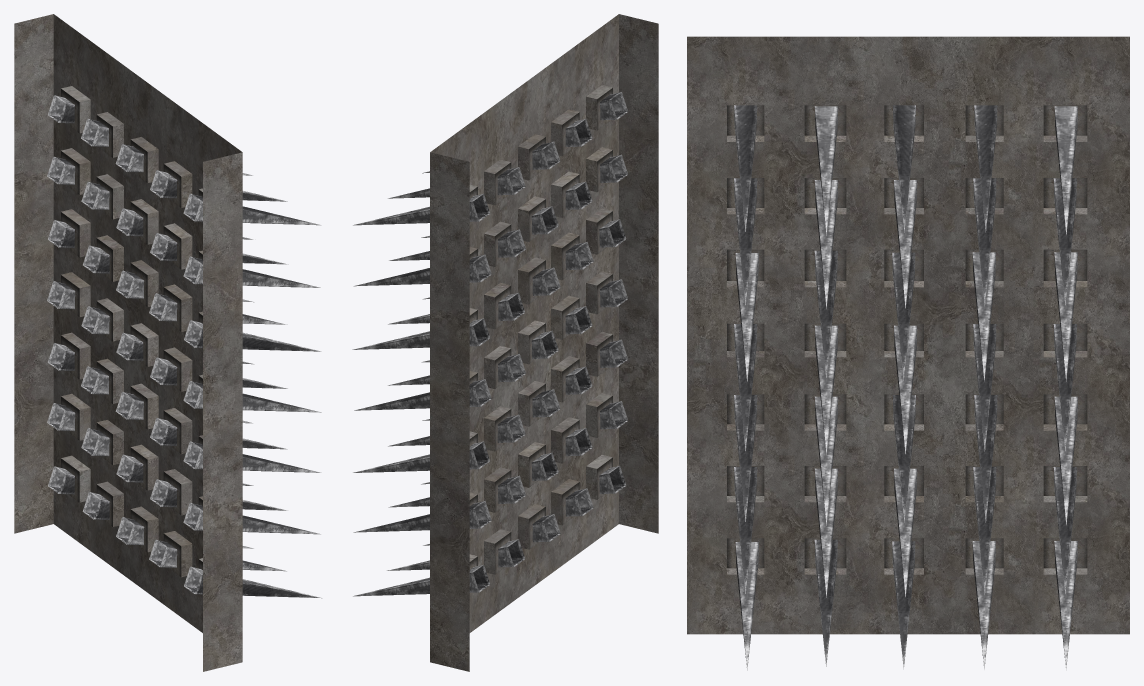
The model's file is ExportLibrarySpikedWall.FBX.
3 views of the same model, side by side, from view 1: azimuth 30°, elevation 25°; view 2: azimuth 150°, elevation 25°; view 3: azimuth 270°, elevation 25° (orthographic). The views are drawn at different scales.
Visible parts, largest first — view 1: wall_with_peaks, Box003; view 2: wall_with_peaks, Box003; view 3: wall_with_peaks, Box003.
Boxes of the visible parts, x1,y1,x2,y2 form: wall_with_peaks: (14,14,242,671); Box003: (47,95,322,598); wall_with_peaks: (430,14,658,671); Box003: (352,92,628,596); wall_with_peaks: (687,36,1129,634); Box003: (734,105,1077,670).
Size of the model in its own units: 49.47 by 111 by 166.
